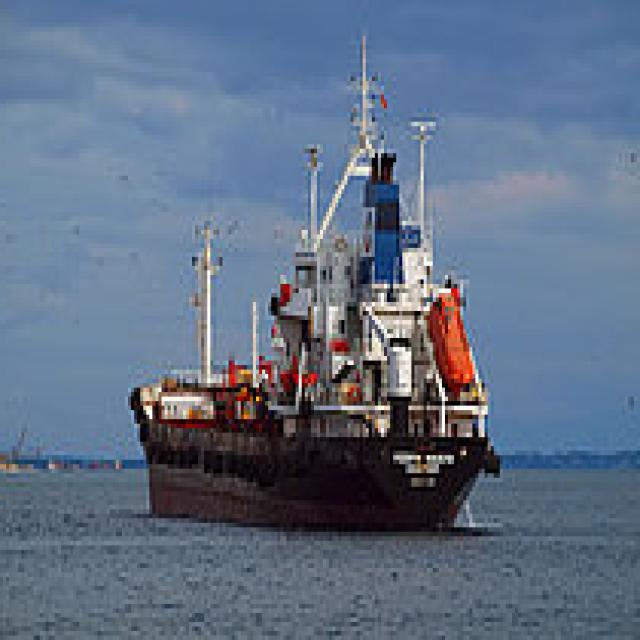Tanker: (128, 22, 503, 532)
